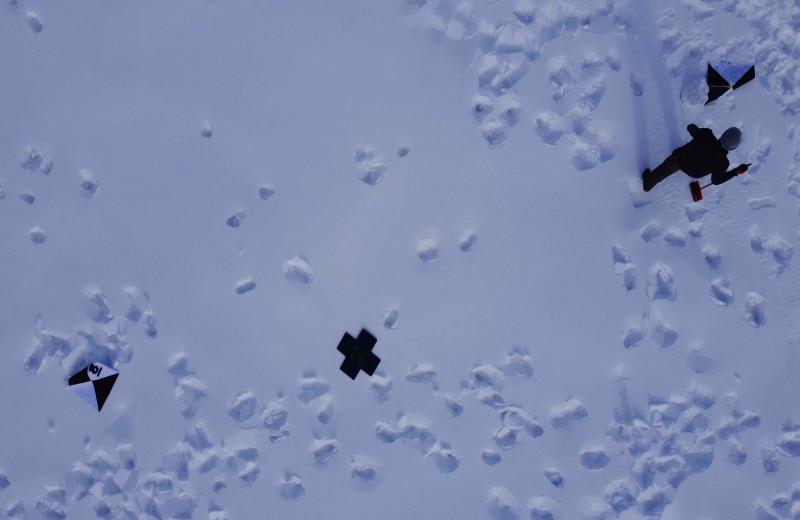Cross: (337, 325, 381, 379)
